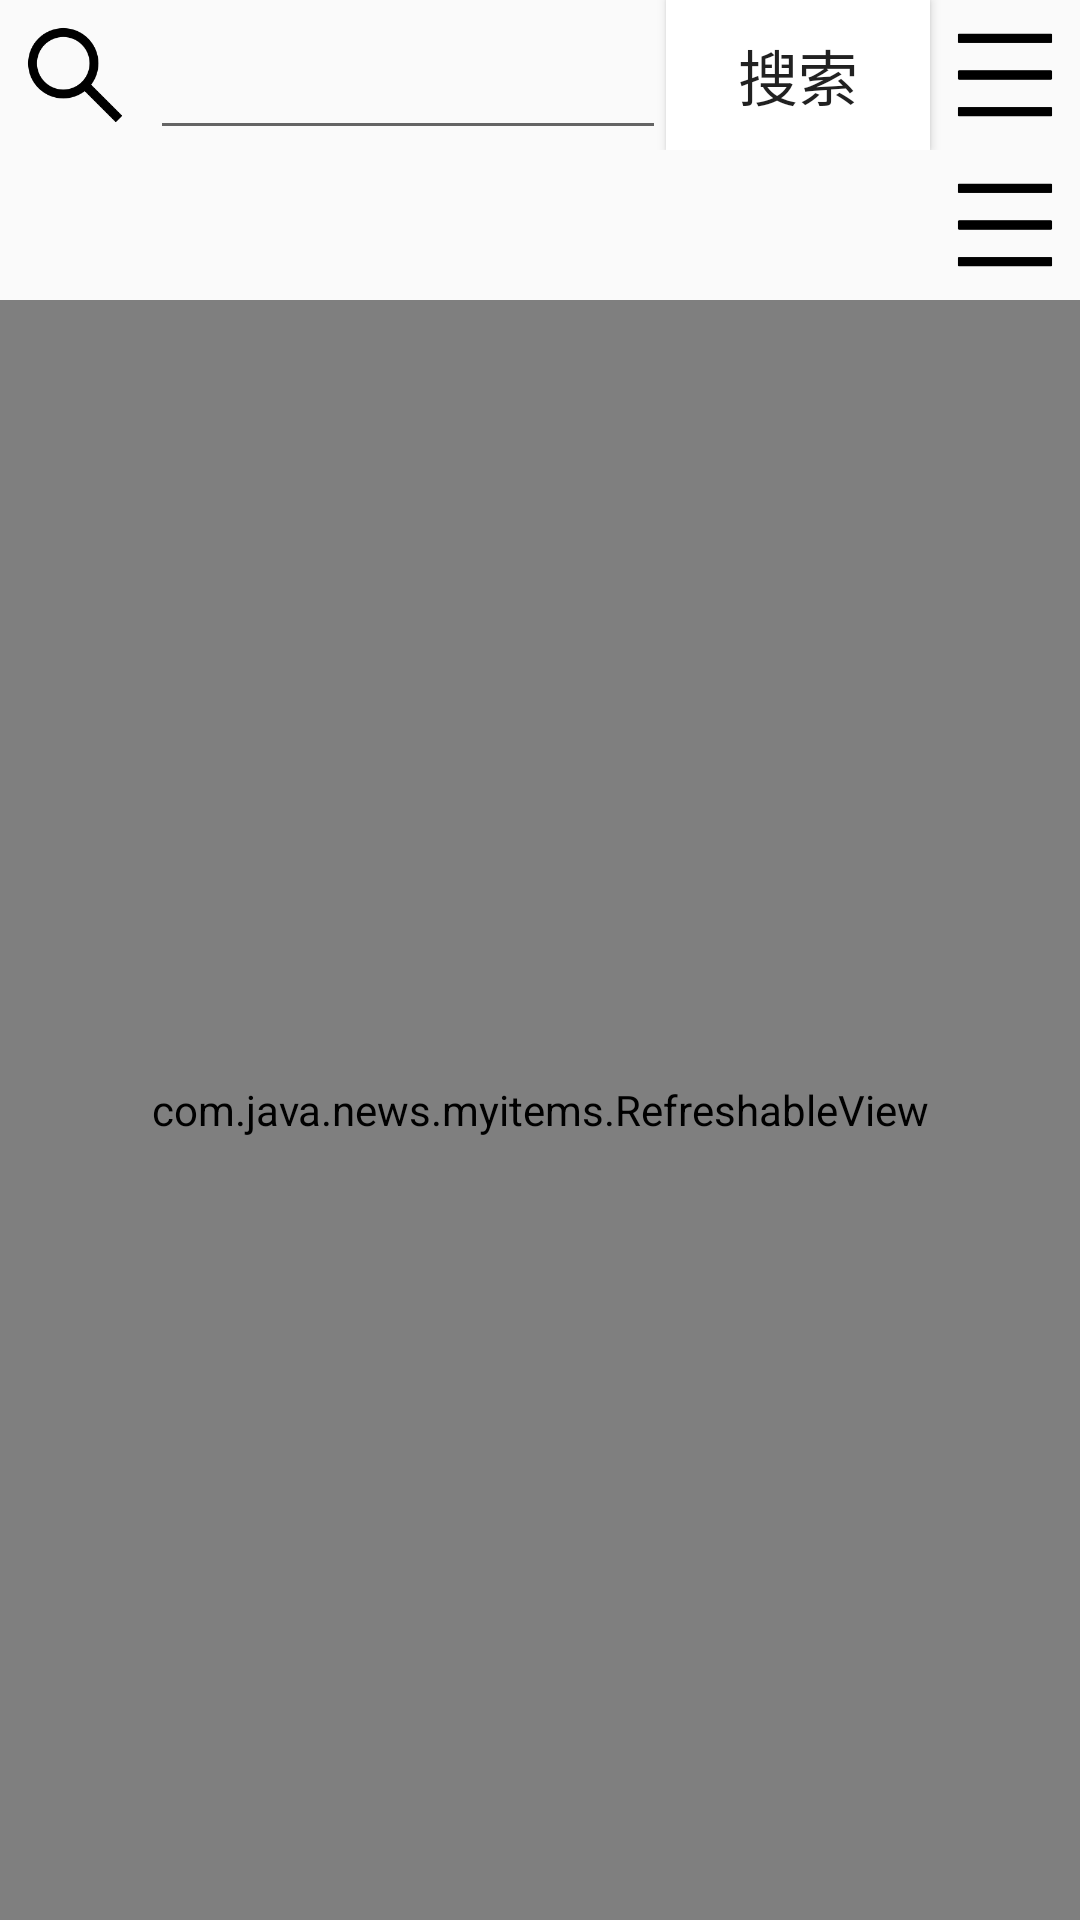

Screen size 1080w x 1920h. Icon name, then its center in pixels as [x,y]:
menu: [1005,75], [1005,225]
search: [75,75]
